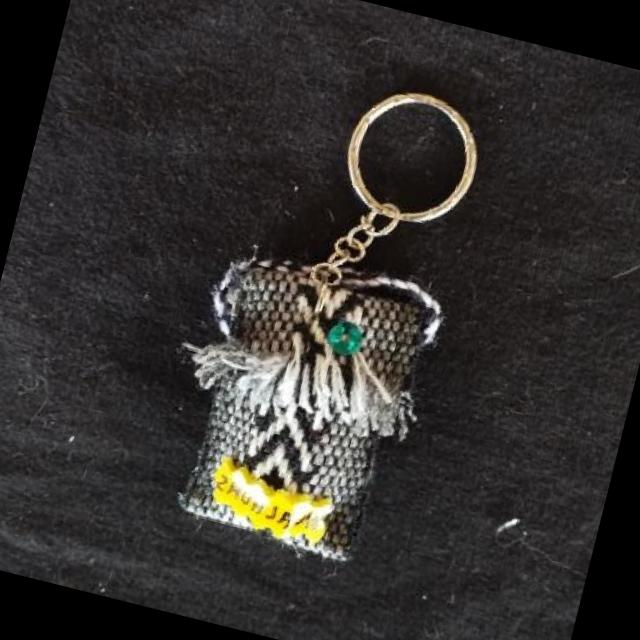Llavero: (142, 228, 452, 572)
